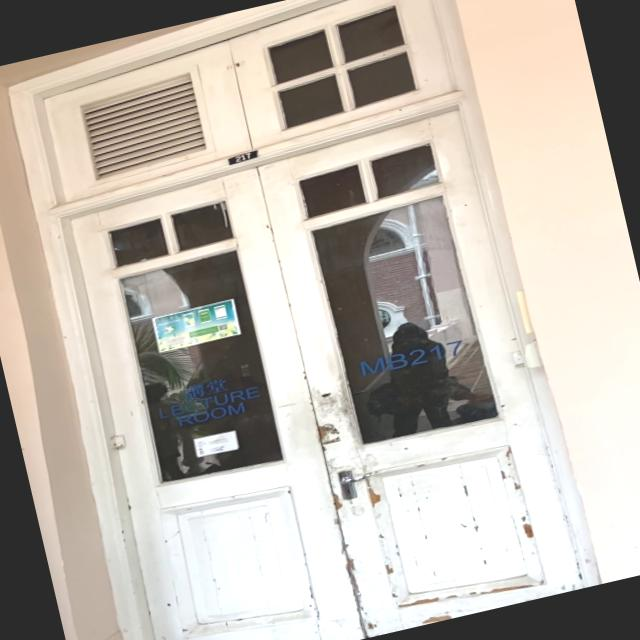room217: (225, 148, 260, 166)
room217Window: (353, 332, 472, 382)
